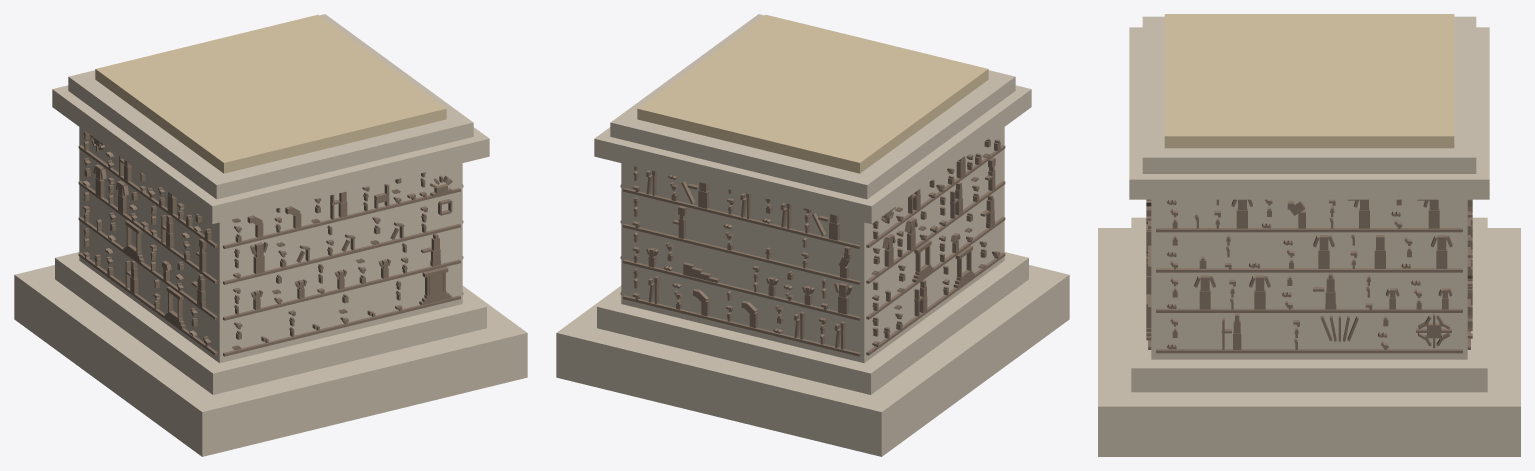
The model's file is hub_pedestal.gltf.
3 renders of one model, left to right at view 1: azimuth 30°, elevation 25°; view 2: azimuth 150°, elevation 25°; view 3: azimuth 270°, elevation 25°, orthographic. The views are drawn at different scales.
Parts seen in each view (by area): view 1: Body; view 2: Body; view 3: Body.
Part boxes in pixels (box(x1,y1,x2,y2)): Body: box(14, 14, 527, 456); Body: box(556, 14, 1069, 456); Body: box(1098, 14, 1520, 456).
Size of the model in its own units: 1.9 by 1.45 by 1.9.
